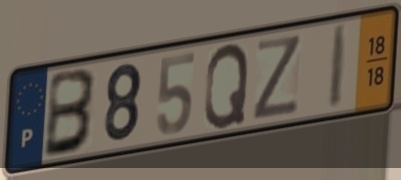5: (154, 48, 198, 137)
8: (103, 61, 144, 145)
B: (41, 66, 100, 162)
I: (326, 21, 351, 112)
Q: (201, 40, 252, 132)
Z: (250, 32, 304, 124)
